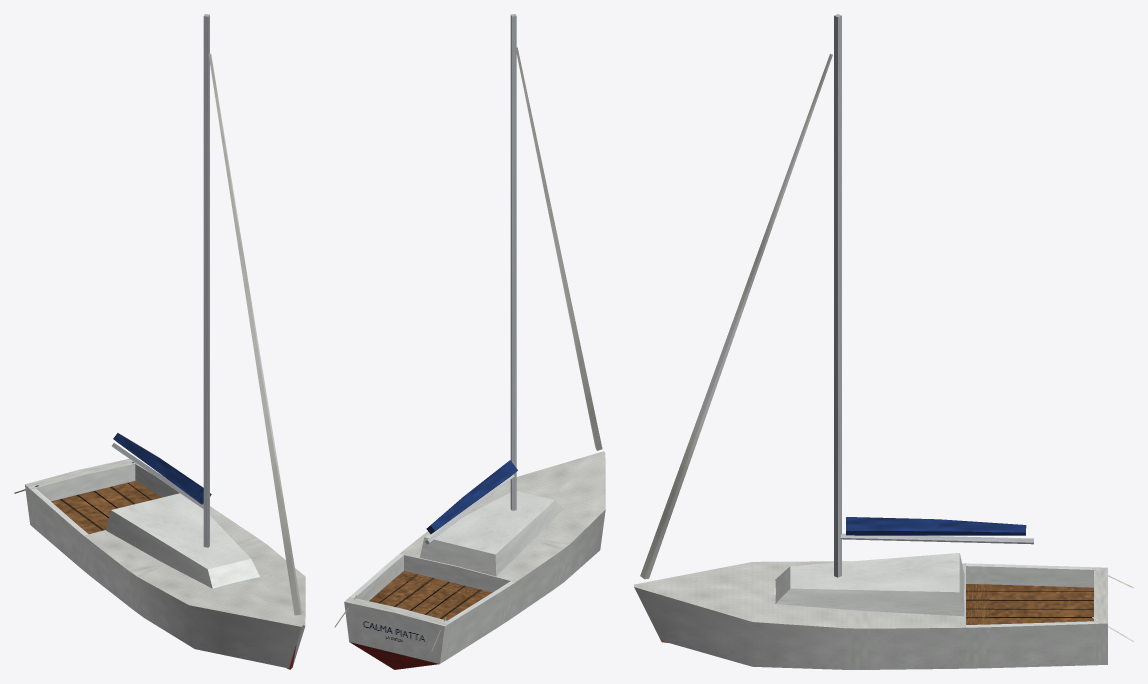
File: SM_Morin_Barca_Vela9_CoprirandaBlu_LOD2.fbx
3 renders of one model, left to right at view 1: azimuth 30°, elevation 25°; view 2: azimuth 150°, elevation 25°; view 3: azimuth 270°, elevation 25°, orthographic. The views are drawn at different scales.
Parts seen in each view (by area): view 1: SM_Morin_Barca_Vela9_CoprirandaBlu_LOD2; view 2: SM_Morin_Barca_Vela9_CoprirandaBlu_LOD2; view 3: SM_Morin_Barca_Vela9_CoprirandaBlu_LOD2.
Part boxes in pixels (box(x1,y1,x2,y2)): SM_Morin_Barca_Vela9_CoprirandaBlu_LOD2: box(14, 14, 305, 669); SM_Morin_Barca_Vela9_CoprirandaBlu_LOD2: box(334, 14, 605, 669); SM_Morin_Barca_Vela9_CoprirandaBlu_LOD2: box(634, 14, 1133, 669).
Bounding box in the file's own units: 300 × 944 × 1340.
Materials: 1 (1 with a texture image).
